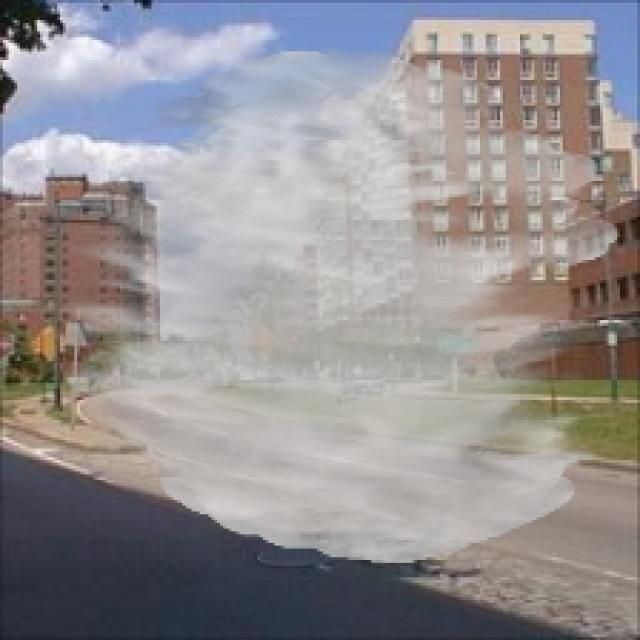Smoke: (57, 48, 620, 563)
